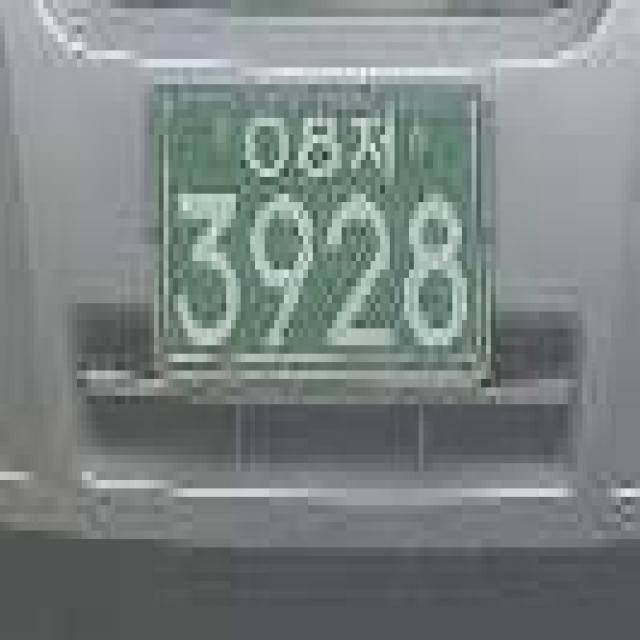illegal_plate: (139, 63, 506, 402)
